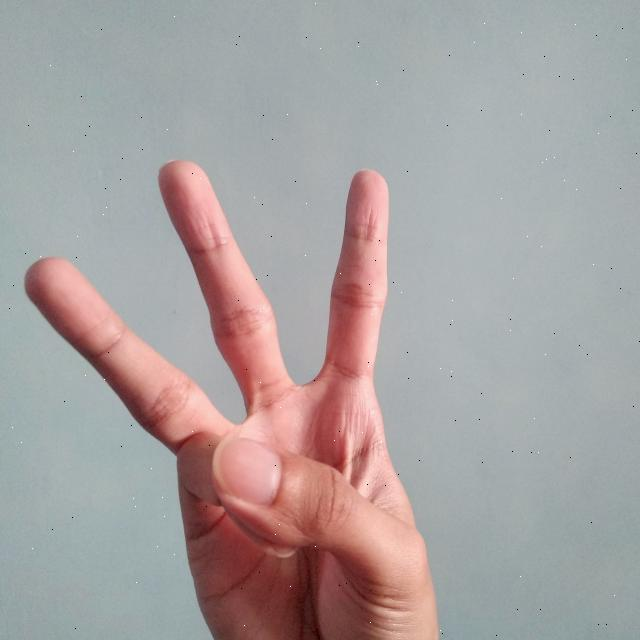W: (20, 145, 452, 640)
